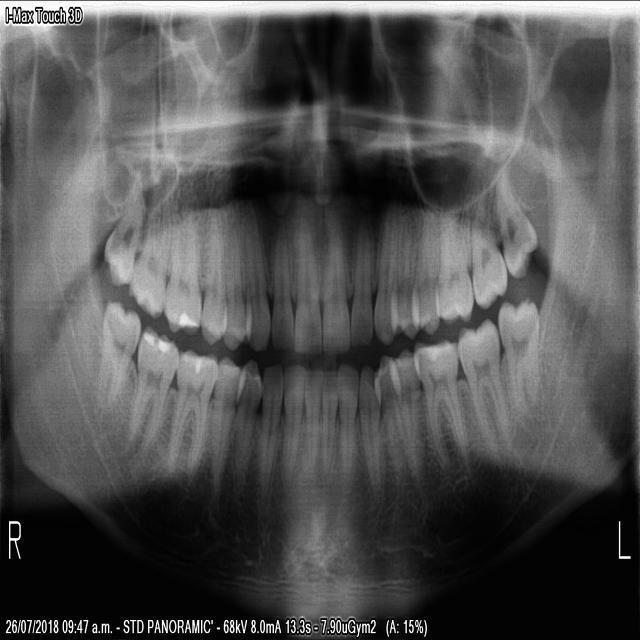LCD: (354, 359, 383, 504)
LCU: (369, 205, 400, 350)
LID: (334, 356, 359, 487), (317, 366, 341, 482)
LIU: (319, 210, 352, 358), (349, 215, 374, 352)
LMD: (409, 332, 470, 468), (454, 313, 512, 450), (493, 289, 541, 414)
LMU: (489, 158, 540, 284), (431, 201, 474, 326), (469, 190, 509, 308)
LPMD: (370, 351, 412, 484), (387, 342, 422, 468)
LPMU: (387, 198, 421, 343), (407, 197, 440, 338)
RCD: (254, 358, 283, 503)
RCU: (236, 202, 270, 352)
RID: (277, 360, 306, 484), (301, 361, 323, 475)
RIU: (291, 212, 323, 356), (268, 209, 294, 355)
RMD: (124, 317, 180, 462), (162, 341, 219, 482), (94, 292, 142, 409)
RMU: (99, 161, 146, 294), (122, 190, 169, 320), (159, 199, 201, 334)
RPMD: (205, 352, 245, 498), (229, 353, 262, 500)
RPMU: (197, 196, 229, 349), (219, 203, 250, 355)
